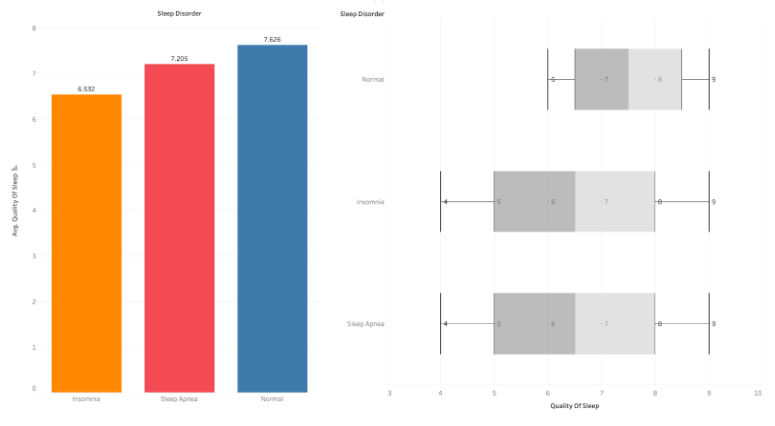

Layout of this report page (visuals, bound fields, positions):
{"tool":"tableau","page":{"name":"Dashboard Q2","canvas":[1000,1000],"units":"permille","ordinal":0},"visuals":[{"type":"worksheet","title":"Q2 Sleep Disorder | Qaulity of Sleep","mark":"Automatic","rows":["quality_of_sleep"],"cols":["sleep_disorder"],"box":[6.9,12.2,266,975.6]},{"type":"worksheet","title":"Q2 Sleep Disorder | Qaulity of Sleep Boxplot","mark":"Circle","rows":["sleep_disorder"],"cols":["quality_of_sleep"],"box":[273,12.2,720.1,975.6]}]}

Visuals, with their boxes on the dashboard's canvas, which has no fixed pixel size, in thousandths of its width and height (x1, y1, x2, y2). These are canvas units, not pixel positions in the 775x426 screenshot, which may show the page scaled, cropped or inside an application window:
"Q2 Sleep Disorder | Qaulity of Sleep" worksheet: l=7, t=12, r=273, b=988
"Q2 Sleep Disorder | Qaulity of Sleep Boxplot" worksheet (Circle marks): l=273, t=12, r=993, b=988
